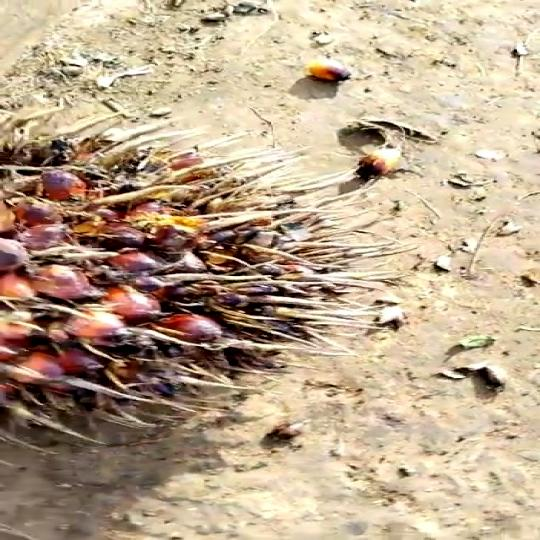terlalu masak: (0, 126, 417, 450)
